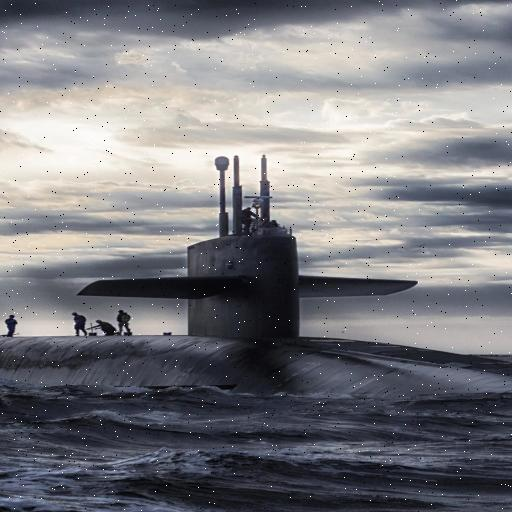submarine: (1, 152, 512, 430)
